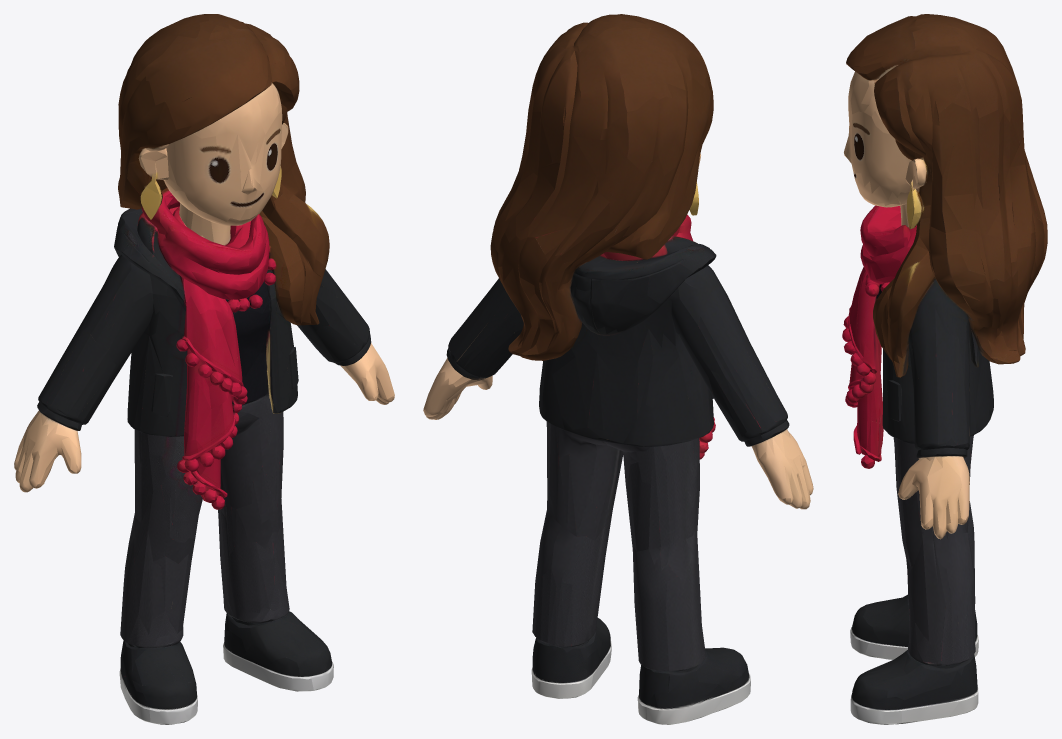
3 renders of one model, left to right at view 1: azimuth 30°, elevation 25°; view 2: azimuth 150°, elevation 25°; view 3: azimuth 270°, elevation 25°, orthographic. The views are drawn at different scales.
Bounding box in the file's own units: 1.13 × 1.9 × 0.5372.
Materials: 1 (1 with a texture image).
